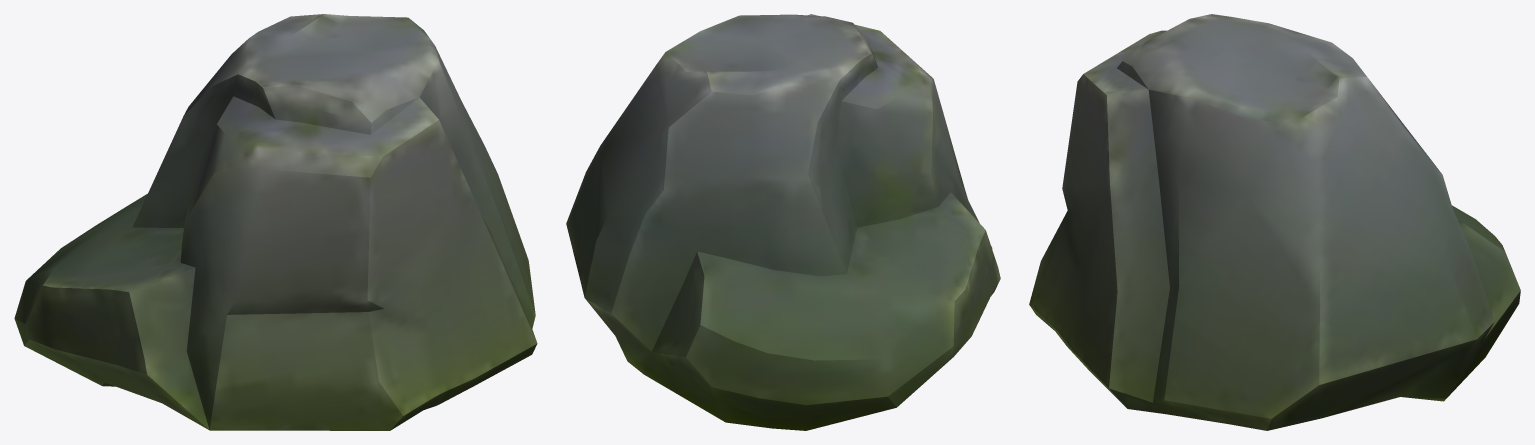
Rendered from Rock_Medium_1.glb.
The picture shows the model from 3 angles, left to right: view 1: azimuth 30°, elevation 25°; view 2: azimuth 150°, elevation 25°; view 3: azimuth 270°, elevation 25°; orthographic projection. The views are drawn at different scales.
Visible parts, largest first — view 1: Rock_Medium_1; view 2: Rock_Medium_1; view 3: Rock_Medium_1.
Boxes of the visible parts, left/top/right/bottom form: Rock_Medium_1: left=14, top=14, right=537, bottom=430; Rock_Medium_1: left=566, top=14, right=1000, bottom=430; Rock_Medium_1: left=1029, top=14, right=1520, bottom=430.
Size of the model in its own units: 3.23 by 2.26 by 2.99.
1 material, 1 textured.
